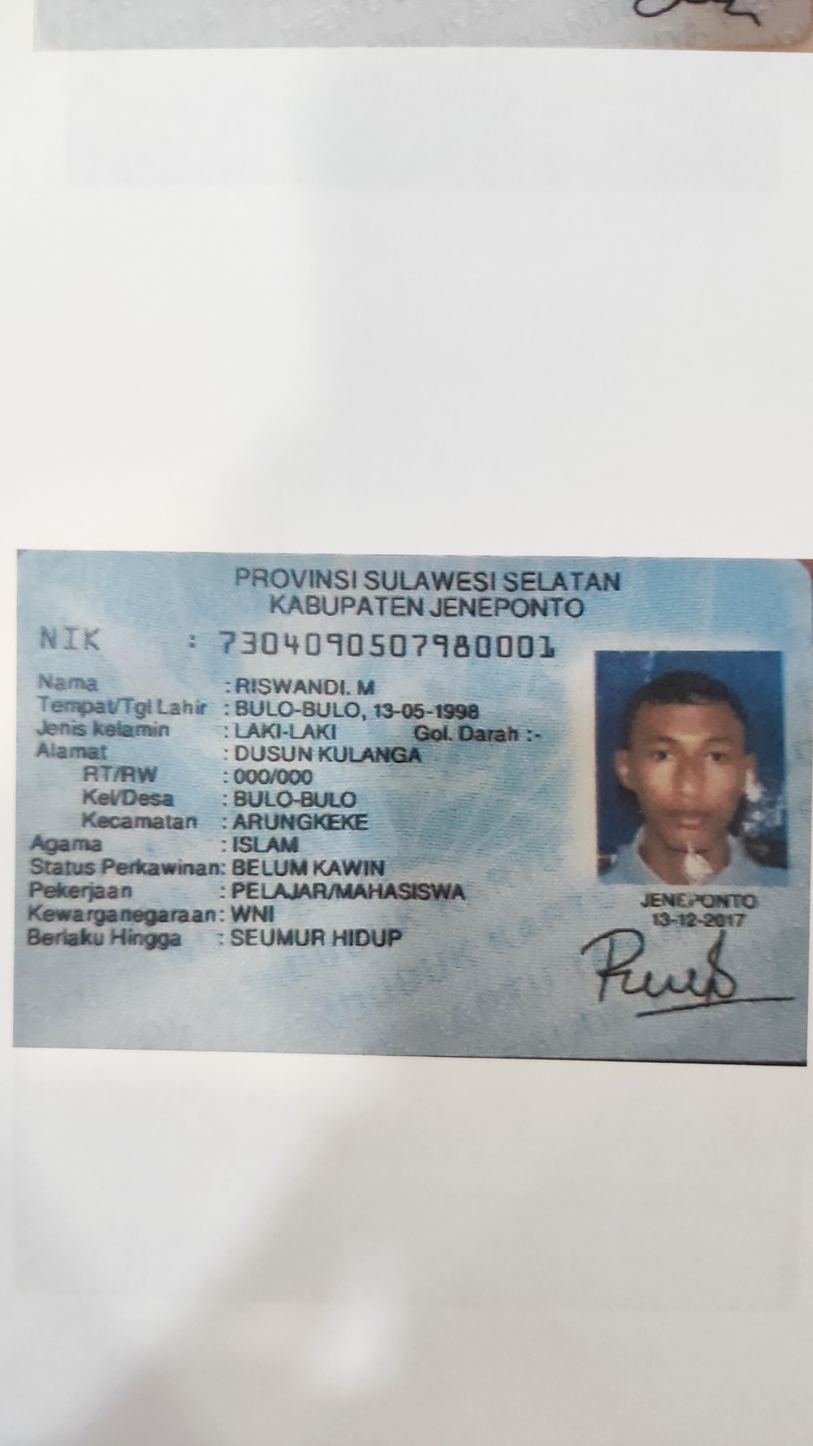ID-card: (16, 560, 808, 1053)
